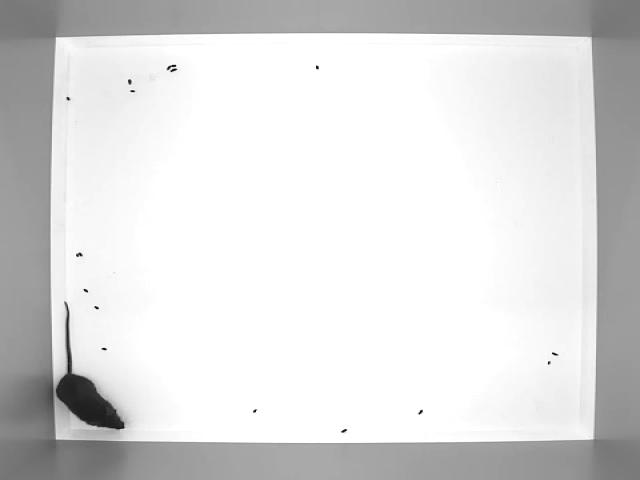Tikus: (56, 300, 124, 430)
